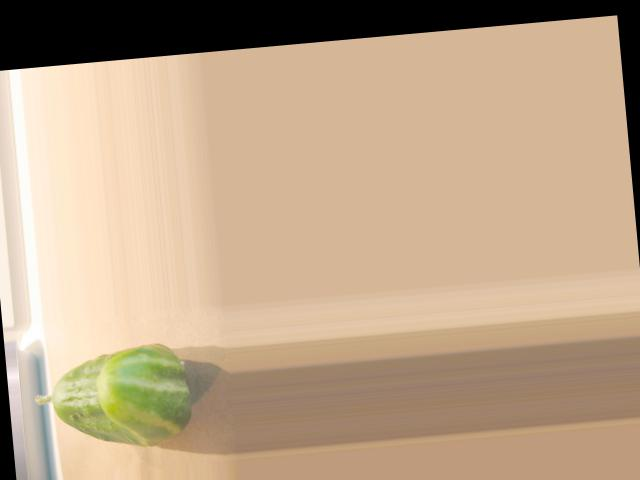cucumber: (30, 339, 194, 454)
